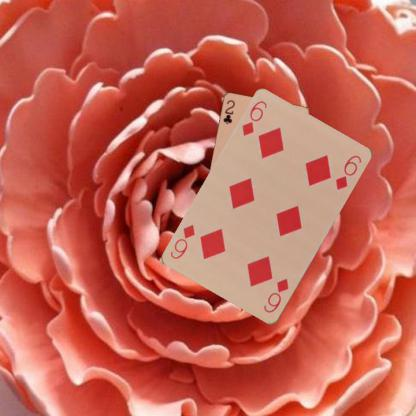2c: (221, 97, 236, 125)
6d: (239, 98, 269, 138), (261, 276, 290, 315)
